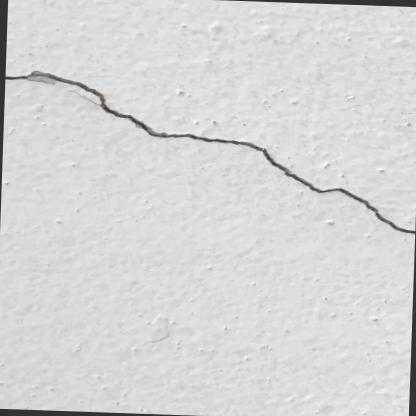crack: (4, 71, 415, 234)
